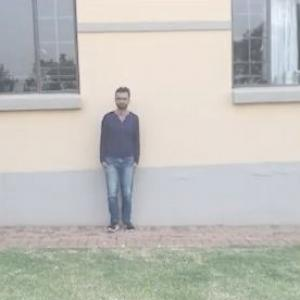follow: (98, 85, 141, 231)
